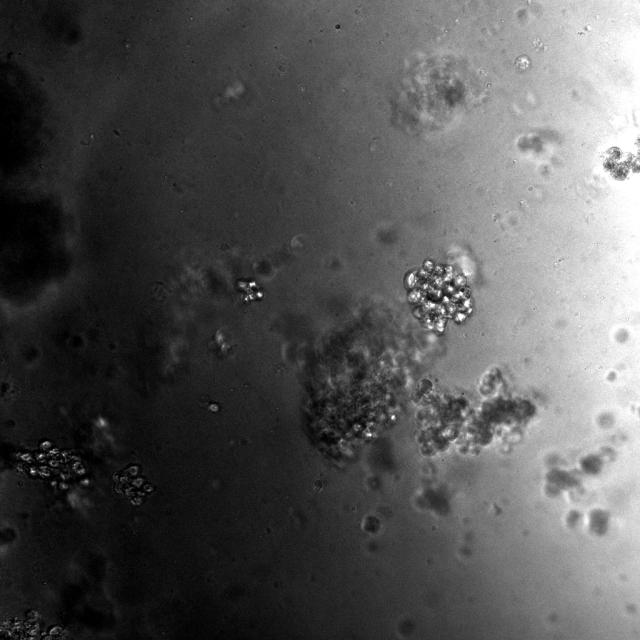organoid: (282, 302, 441, 459), (0, 60, 69, 301), (409, 368, 536, 456), (389, 50, 488, 139), (12, 439, 92, 512), (404, 259, 473, 333), (543, 446, 615, 502), (0, 610, 69, 639), (112, 464, 154, 505), (603, 135, 639, 180), (414, 481, 451, 515), (208, 330, 236, 359), (236, 279, 264, 304), (588, 508, 609, 535), (361, 514, 381, 534), (565, 509, 582, 529), (207, 401, 219, 413)
